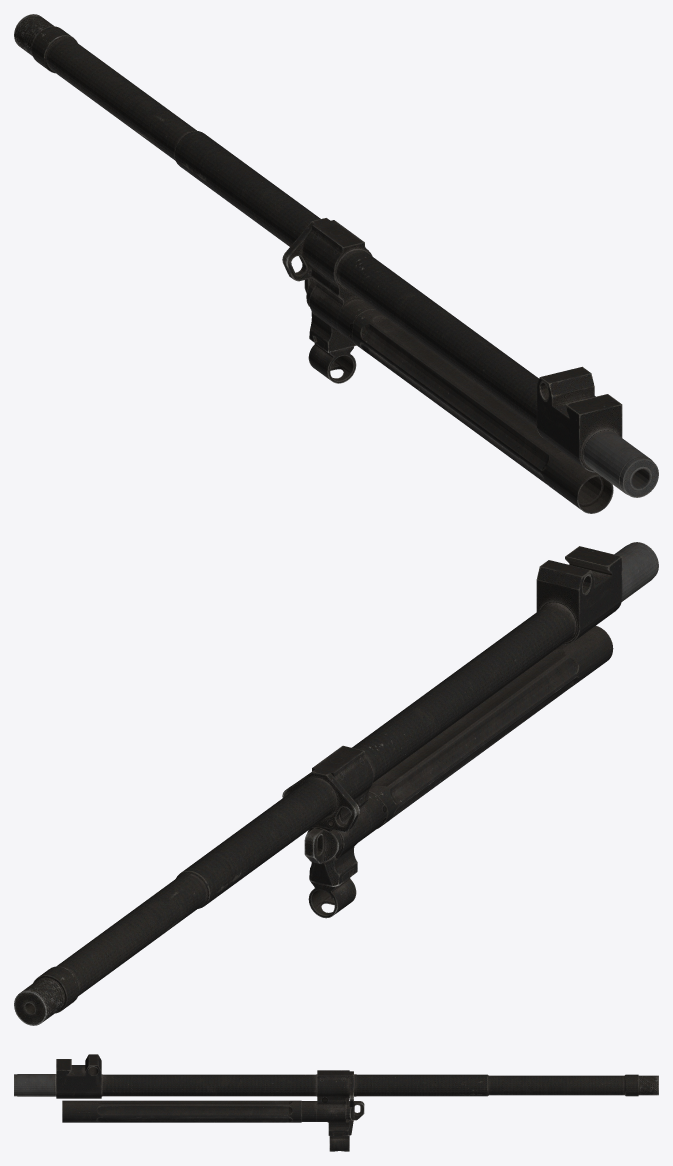
The picture shows the model from 3 angles, top to bottom: view 1: azimuth 30°, elevation 25°; view 2: azimuth 150°, elevation 25°; view 3: azimuth 270°, elevation 25°; orthographic projection. The views are drawn at different scales.
Visible parts, largest first — view 1: TW_5beec2820db834001b095426_PZ_Import; view 2: TW_5beec2820db834001b095426_PZ_Import; view 3: TW_5beec2820db834001b095426_PZ_Import.
Part boxes in pixels (x1=…): TW_5beec2820db834001b095426_PZ_Import: x1=14, y1=14, x2=658, y2=513; TW_5beec2820db834001b095426_PZ_Import: x1=14, y1=542, x2=658, y2=1025; TW_5beec2820db834001b095426_PZ_Import: x1=14, y1=1054, x2=658, y2=1151.
Bounding box in the file's own units: 0.023 × 0.331 × 0.0513.
1 material, 1 textured.
